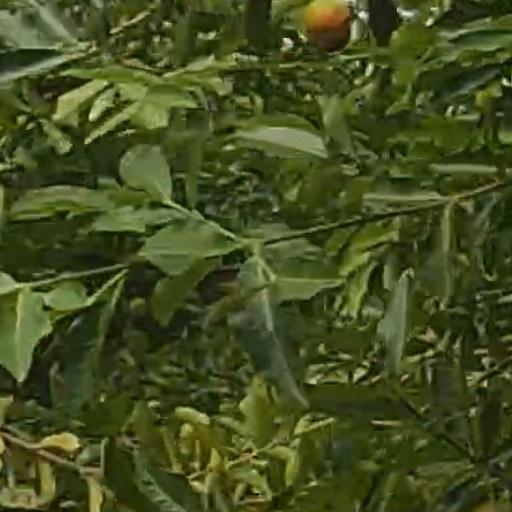acerola_vermelha: (306, 1, 348, 51)
